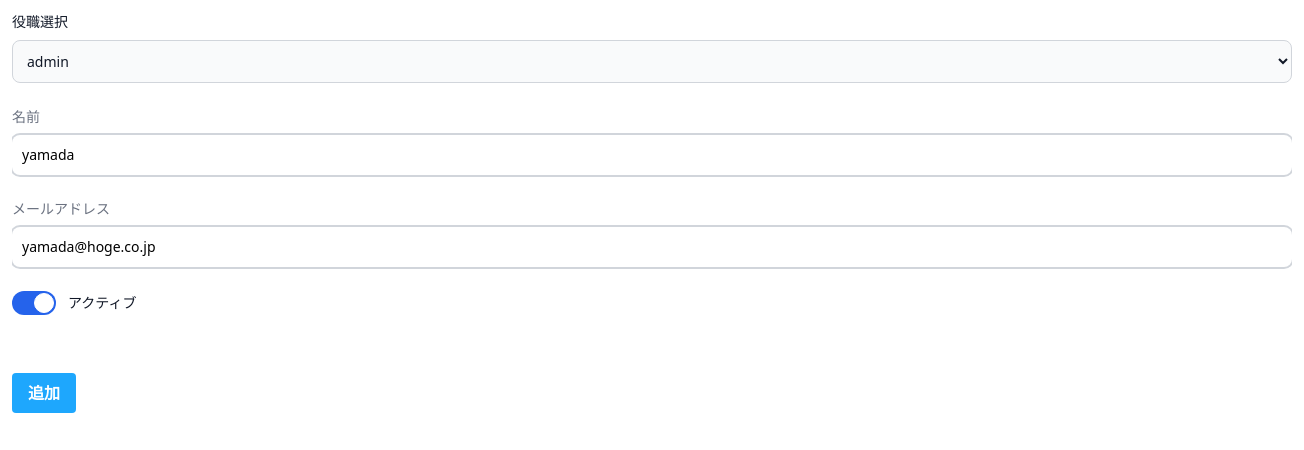
メンバー追加Formのテスト › 名前が30文字以上で追加ボタンをクリックするとエラーメッセージが表示されること
Step 1. Replace the text in the field labelled "名前" with "aaaaaaaaaaaaaaaaaaaaaaaaaaaaaaaaaaaaaaaaaaaaaaaaaaaaaa" → [652, 155], box [12, 135, 1292, 175]
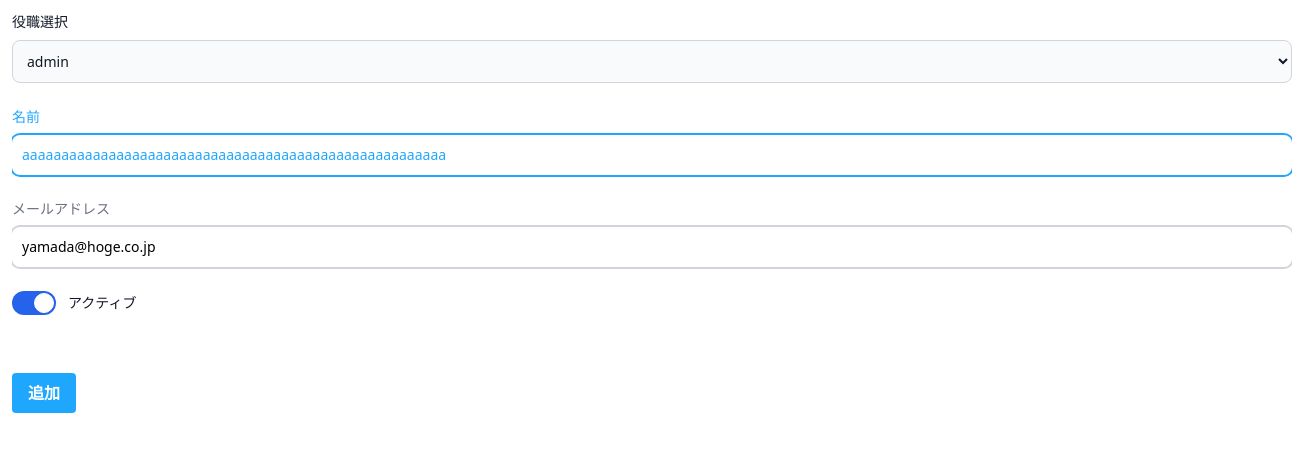
Step 2. Click the button "追加" → [44, 393], box [12, 373, 76, 413]
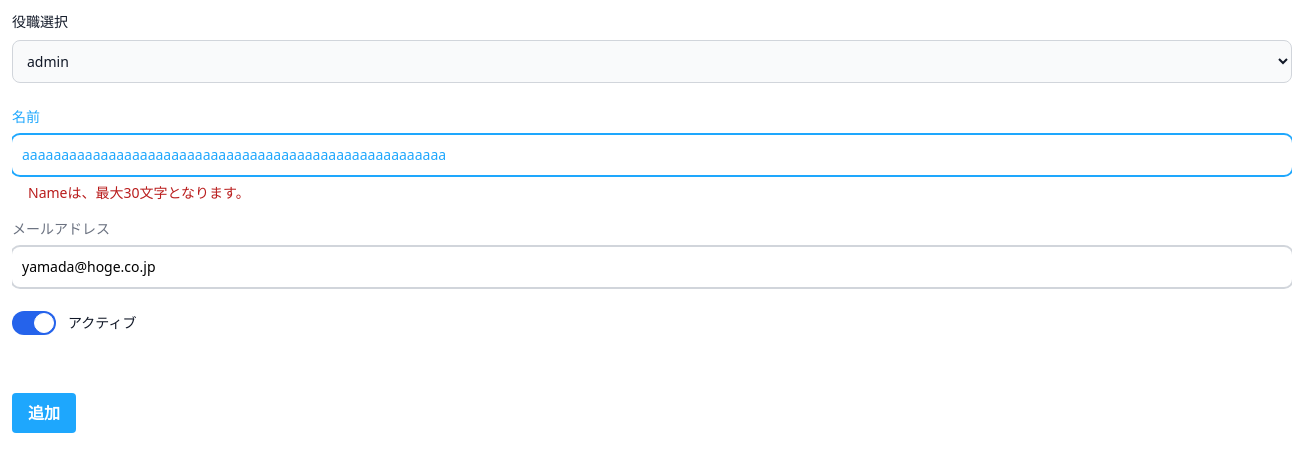
Expected: the text "Nameは、最大30文字となります。" is shown, [28, 183, 250, 202]
